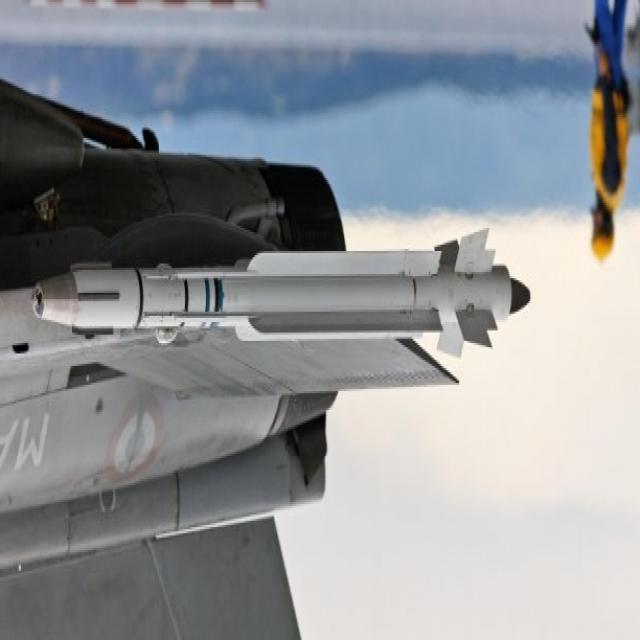missile: (29, 233, 534, 360)
